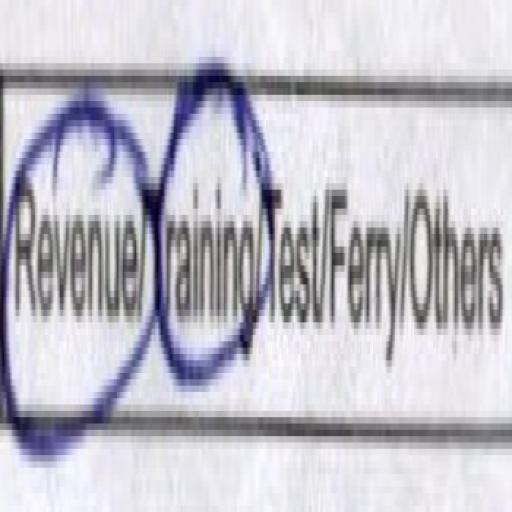check: (0, 0, 142, 512), (146, 7, 262, 512)
